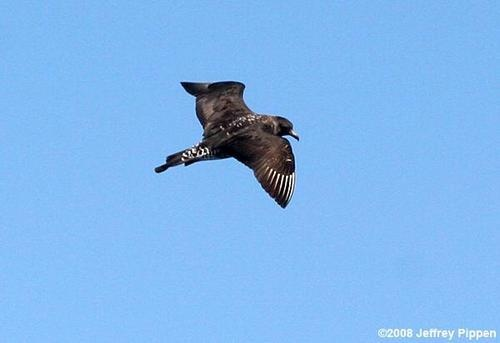bird: (150, 79, 300, 208)
